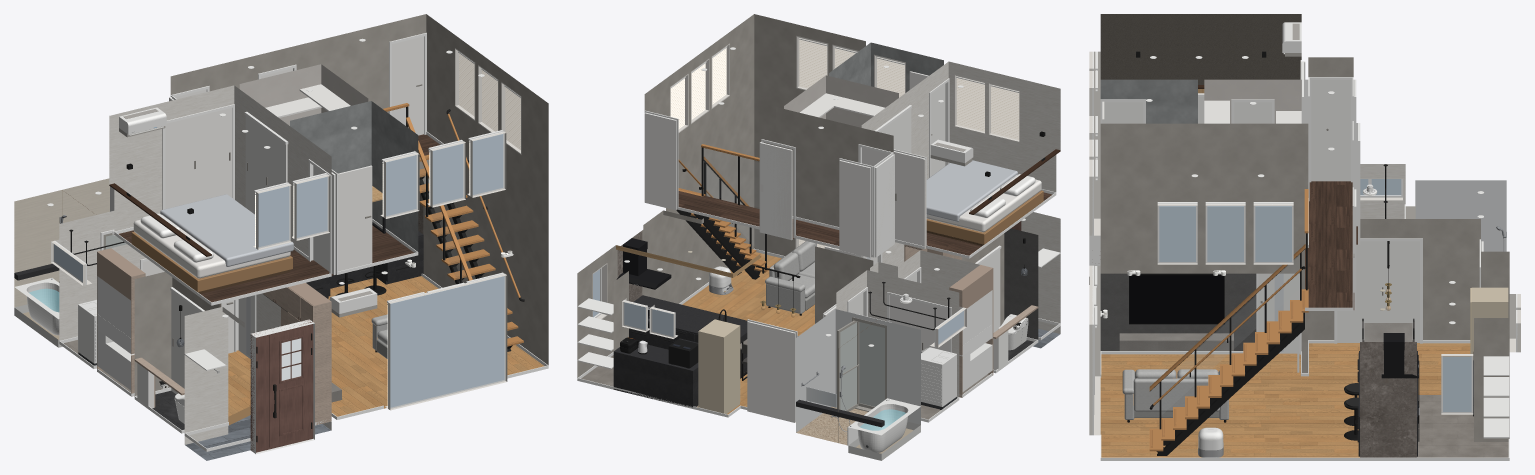
File: house.glb
3 views of the same model, side by side, from view 1: azimuth 30°, elevation 25°; view 2: azimuth 150°, elevation 25°; view 3: azimuth 270°, elevation 25° (orthographic). The views are drawn at different scales.
Visible parts, largest first — view 1: A_hall, A_bed, A_ldk, A_ent, F8671_glass, A_study, A_bath, A_toilet, A_wash, A_dress, A_wic, L_SG33s_open (+15 smaller); view 2: A_ldk, A_hall, A_bed, A_bath, A_wash, A_dress, A_toilet, A_ent, S_hall, A_wic, S_bed, L_SG311_open (+15 smaller); view 3: A_ldk, A_hall, A_bed, A_bath, A_study, L_SG300l_open, A_wic, L_SG300l_closed, FF2442E0_glass, FF2442E1_glass, FF2442E2_glass, A_dress (+8 smaller).
Boxes of the visible parts, box(x1,y1,x2,y2) form: A_hall: box(169, 14, 548, 247); A_bed: box(109, 85, 331, 305); A_ldk: box(306, 113, 548, 419); A_ent: box(184, 283, 331, 460); F8671_glass: box(390, 276, 504, 407); A_study: box(290, 101, 419, 274); A_bath: box(14, 178, 114, 347); A_toilet: box(134, 272, 219, 433); A_wash: box(97, 244, 145, 396); A_dress: box(51, 211, 114, 368); A_wic: box(239, 64, 368, 125); L_SG33s_open: box(338, 165, 372, 271); A_ldk: box(577, 144, 873, 422); A_hall: box(644, 14, 894, 257); A_bed: box(861, 61, 1060, 258); A_bath: box(796, 309, 920, 460); A_wash: box(870, 250, 993, 397); A_dress: box(836, 270, 966, 422); A_toilet: box(962, 228, 1038, 373); A_ent: box(882, 212, 1060, 348); S_hall: box(670, 38, 857, 129); A_wic: box(784, 75, 898, 127); S_bed: box(956, 76, 1019, 139); L_SG311_open: box(893, 151, 924, 246); A_ldk: box(1089, 219, 1520, 460); A_hall: box(1089, 57, 1360, 333); A_bed: box(1089, 14, 1301, 115); A_bath: box(1415, 180, 1506, 251); A_study: box(1089, 79, 1197, 139); L_SG300l_open: box(1378, 241, 1419, 342); A_wic: box(1204, 79, 1301, 123); L_SG300l_closed: box(1337, 241, 1378, 342); FF2442E0_glass: box(1255, 206, 1291, 261); FF2442E1_glass: box(1207, 206, 1243, 261); FF2442E2_glass: box(1159, 206, 1195, 261); A_dress: box(1360, 164, 1405, 218).
Bounding box in the file's own units: 7.56 × 5.48 × 7.56.
Materials: 320 (54 with a texture image).
